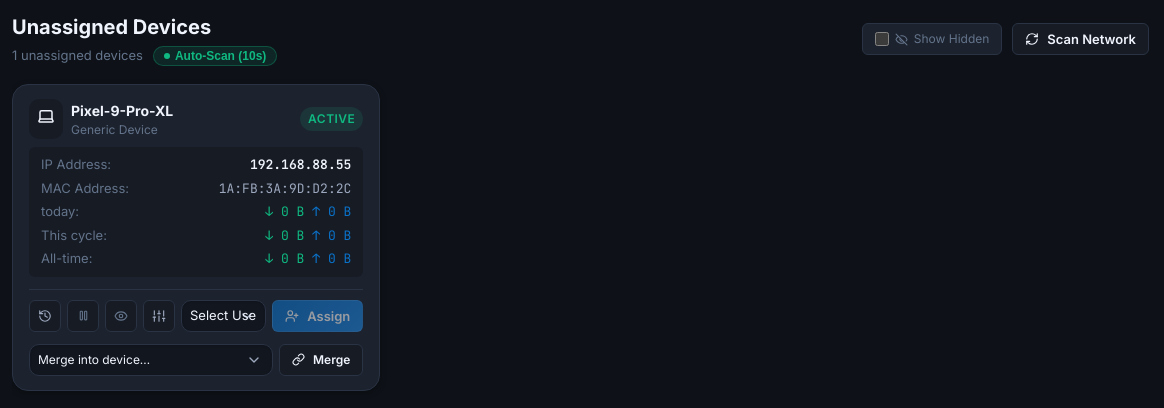
Test: DeviceInbox hidden devices toggle › hides is_hidden devices by default and reveals them when toggle is checked
Expected: the text "Smart-Plug-Hidden" is not shown
Expected: the text "Pixel-9-Pro-XL" is shown, [71,100,173,120]
Click the checkbox labelled "Show Hidden" at (882, 39), box [875,32,889,46]
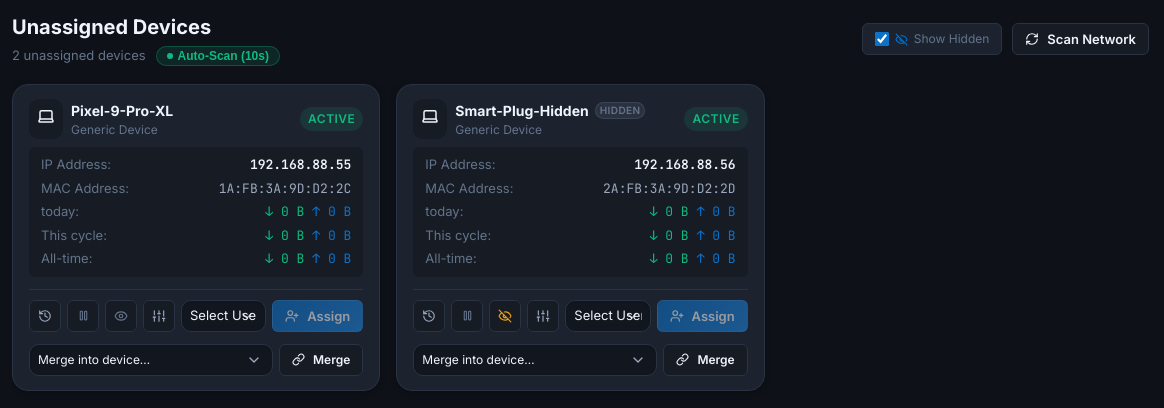
Expected: the text "Smart-Plug-Hidden" is shown, [455,100,589,120]
